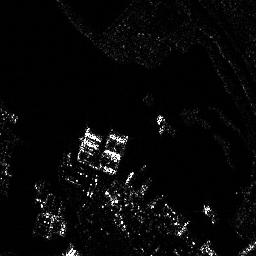ship: (153, 111, 175, 136), (202, 204, 217, 223)
